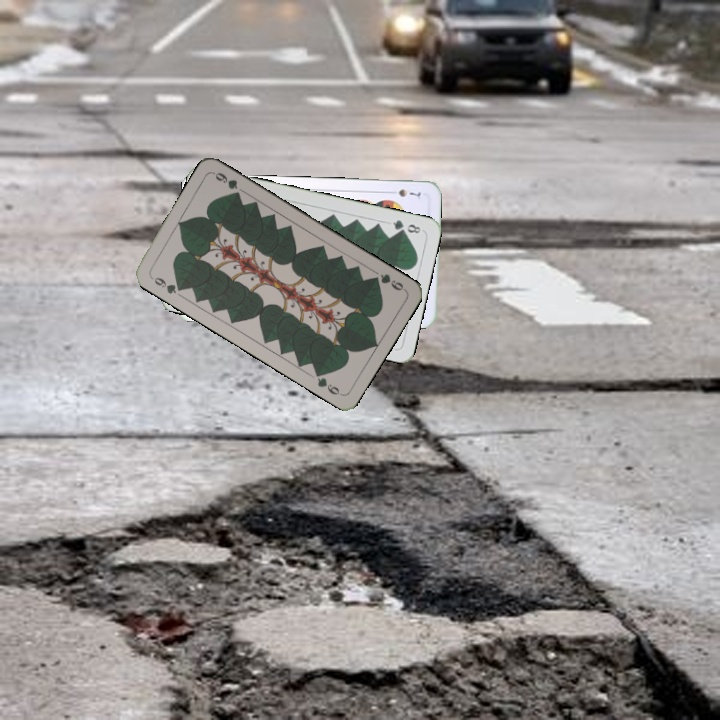G8: (388, 216, 423, 236)
G9: (146, 272, 187, 297), (368, 269, 408, 293)
S7: (385, 185, 423, 200)
